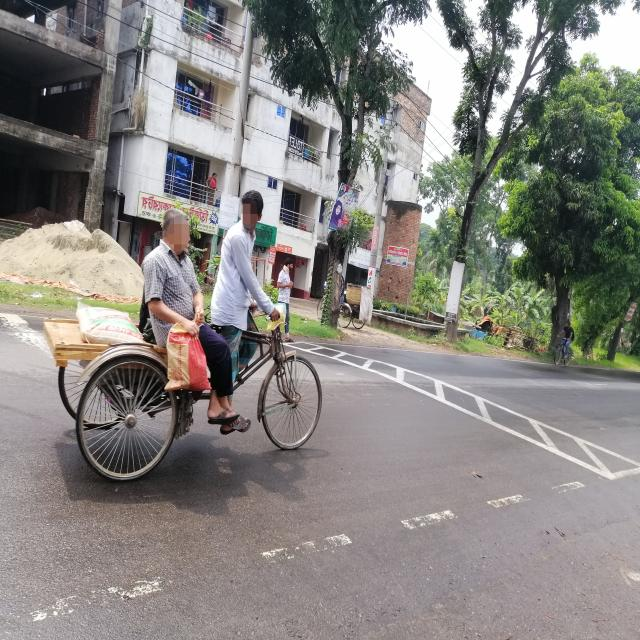Van: (33, 287, 348, 504)
